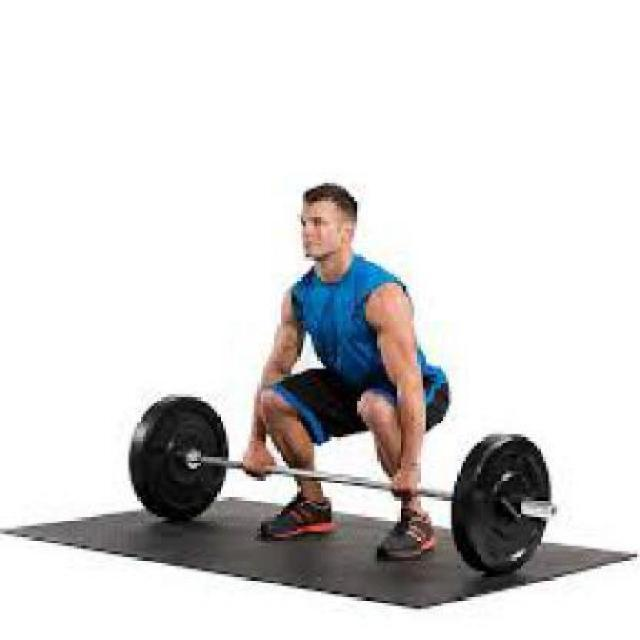Barbell: (540, 494, 563, 523)
